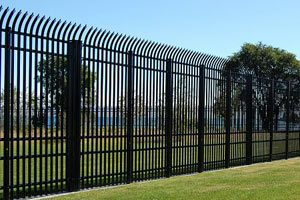Valla: (2, 18, 132, 193), (137, 44, 228, 178), (231, 66, 298, 166)
